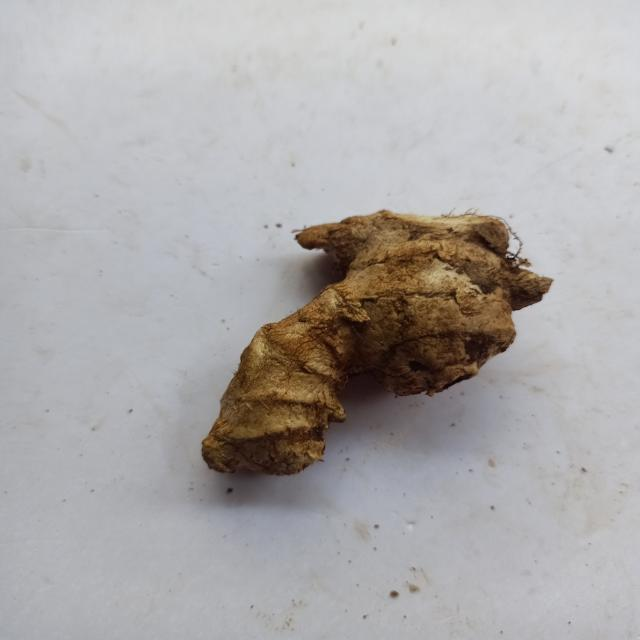Ginger: (201, 210, 553, 475)
